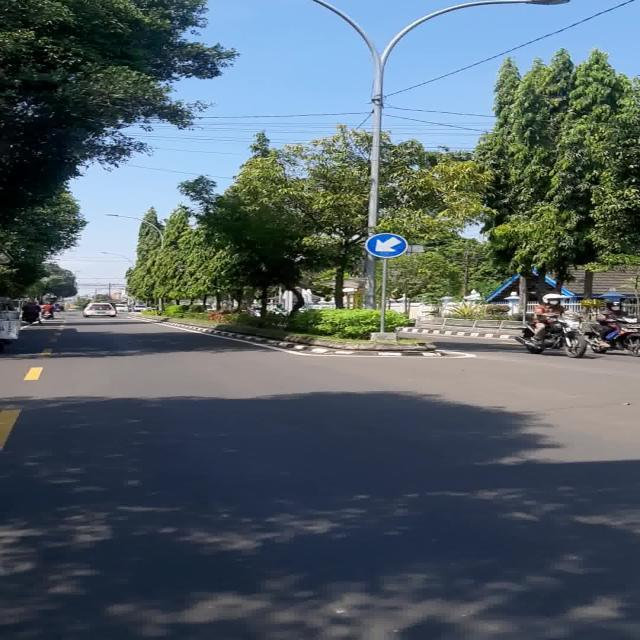Lajur Kiri: (365, 234, 408, 258)
